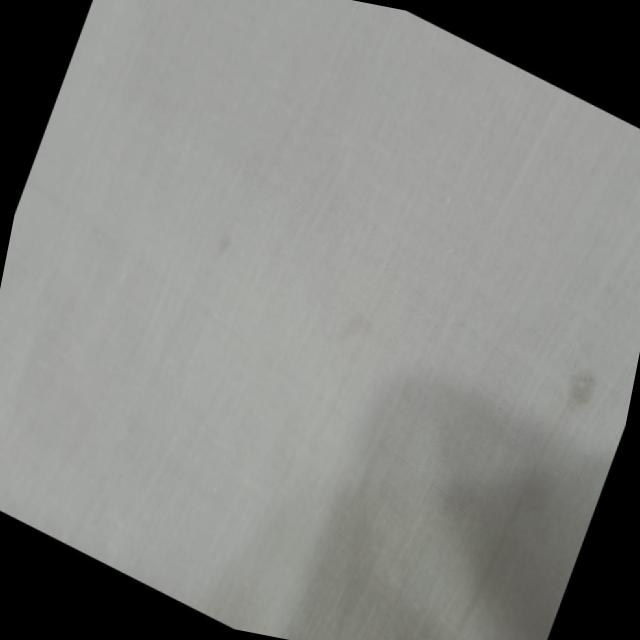stain: (322, 290, 396, 372), (550, 346, 618, 434), (185, 205, 255, 278)
